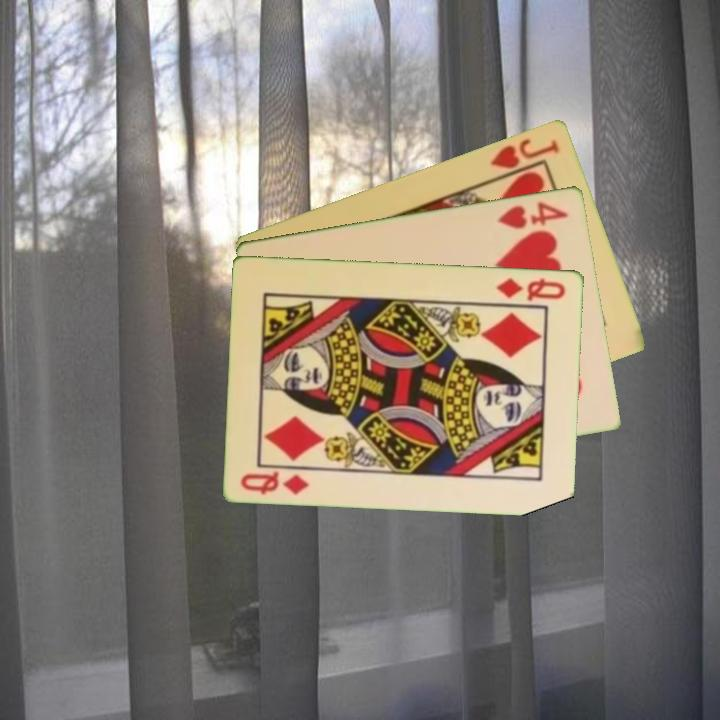4h: (494, 198, 571, 232)
Jh: (487, 134, 563, 171)
Qd: (237, 467, 312, 498), (493, 274, 568, 304)
